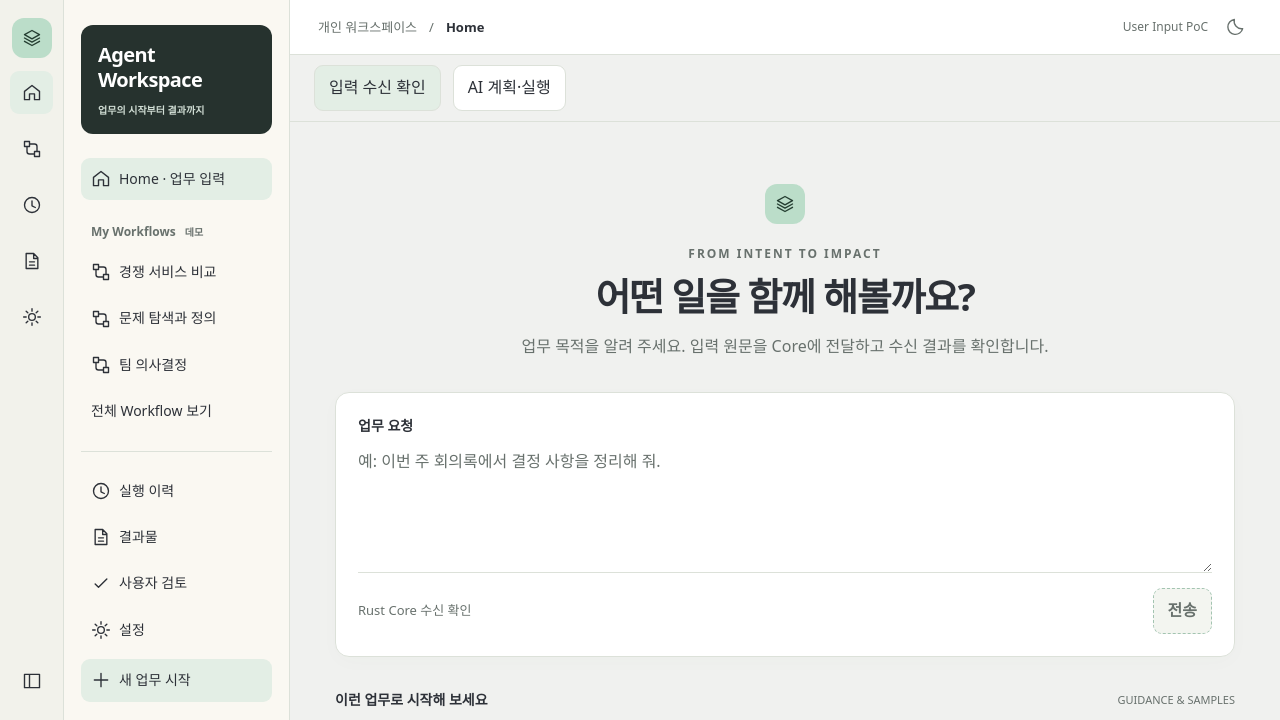
Scenario: UI-11 화면 이동 중 초안과 진행 요청 유지
The width and height of the screenshot is (1280, 720).
In the text box labelled "업무 요청": (785,505) top-left (358, 437), bottom-right (1212, 572), type "A"
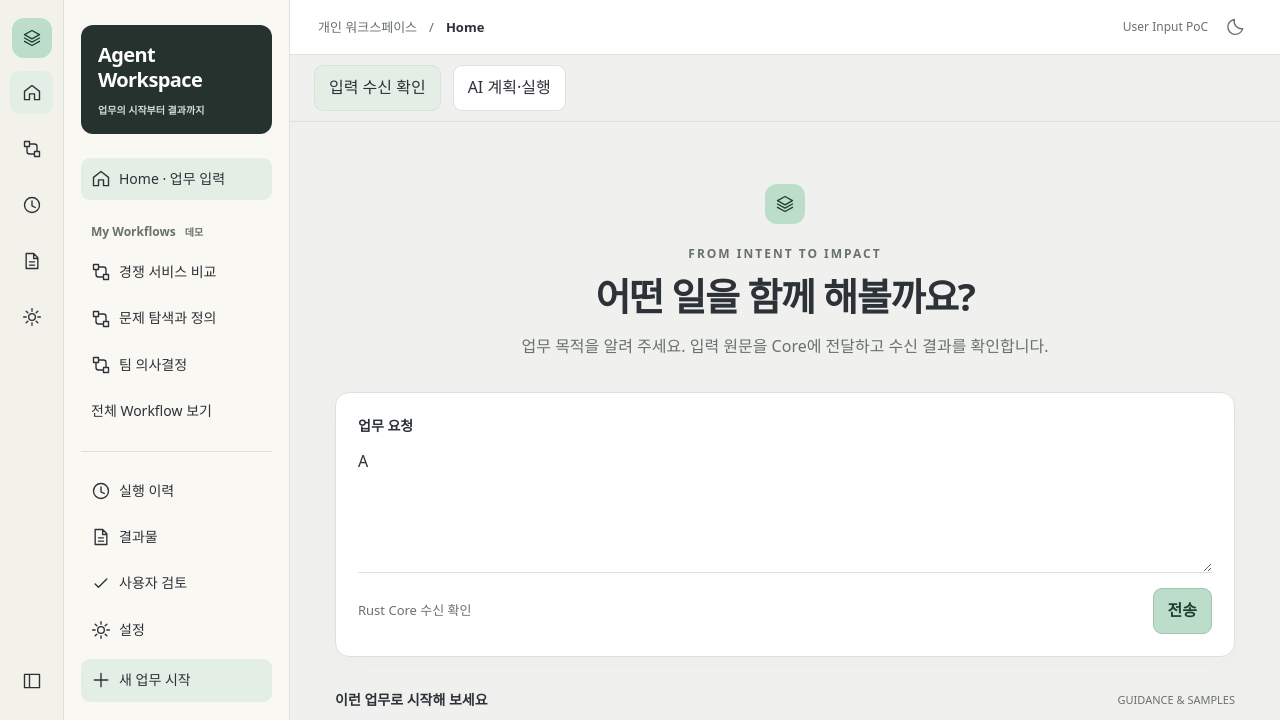
Click the button "전송": (1182,611) top-left (1152, 588), bottom-right (1212, 634)
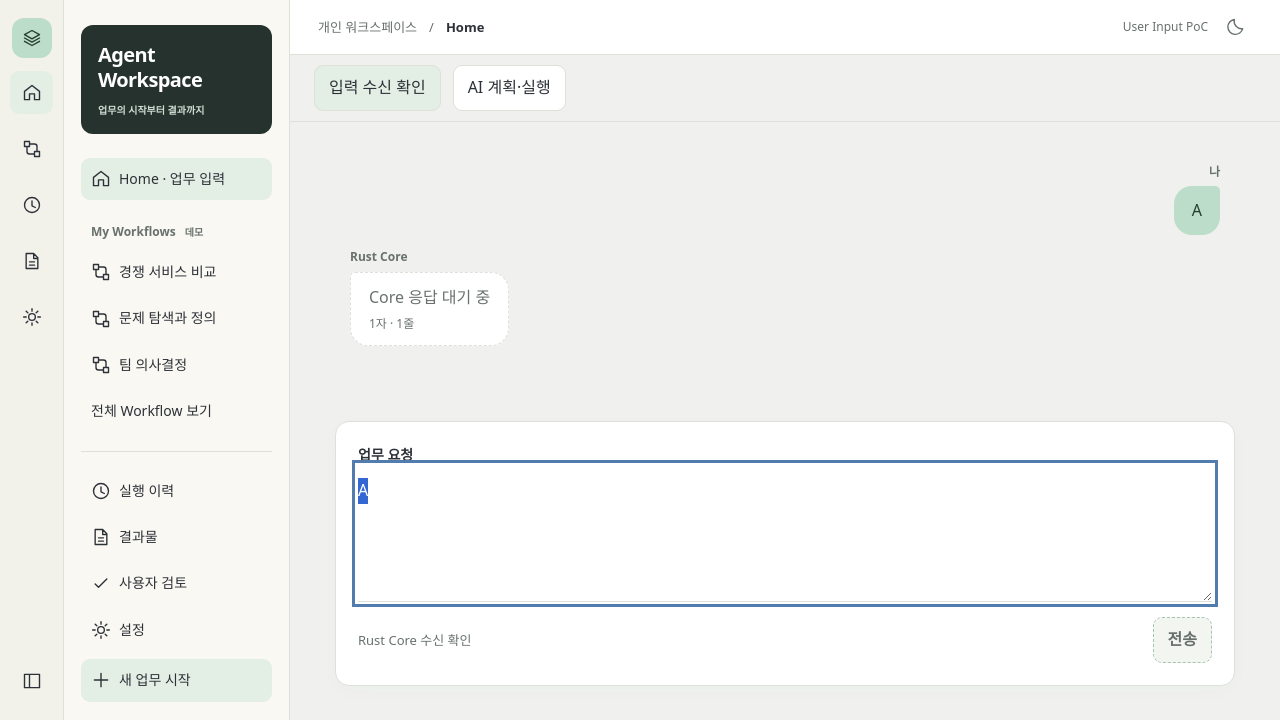
Replace the text in the text box labelled "업무 요청" with "다음 요청": (785,534) top-left (358, 466), bottom-right (1212, 601)
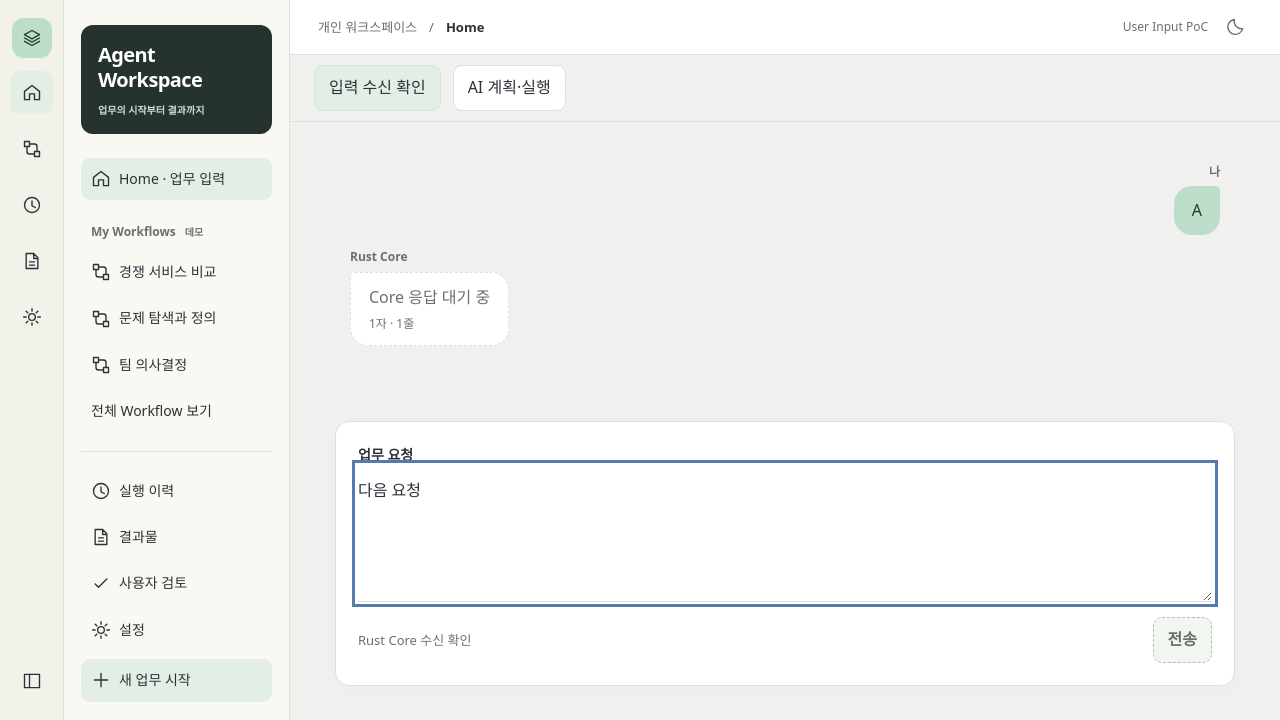
Click the button named "설정": (32,316) top-left (10, 295), bottom-right (53, 338)
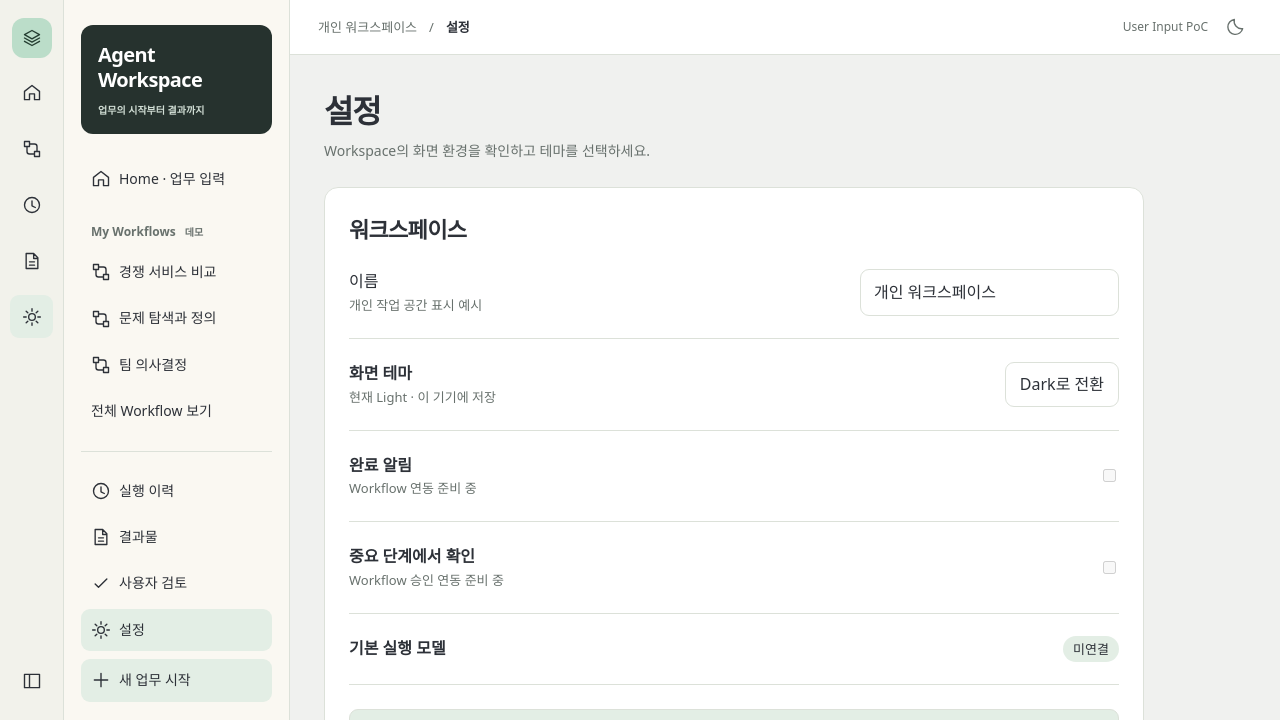
Click the button named "홈": (32,92) top-left (10, 71), bottom-right (53, 114)
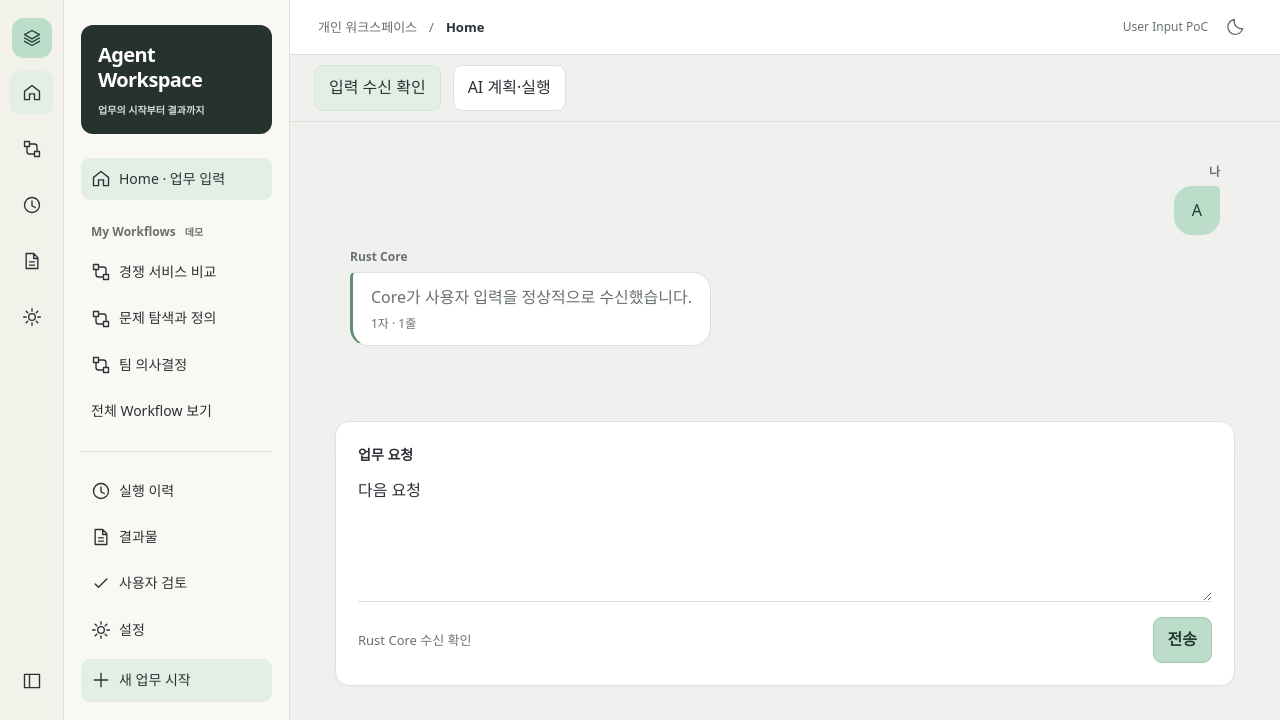
Expected: the message shows "정상적으로 수신", top-left (371, 286), bottom-right (692, 308)
